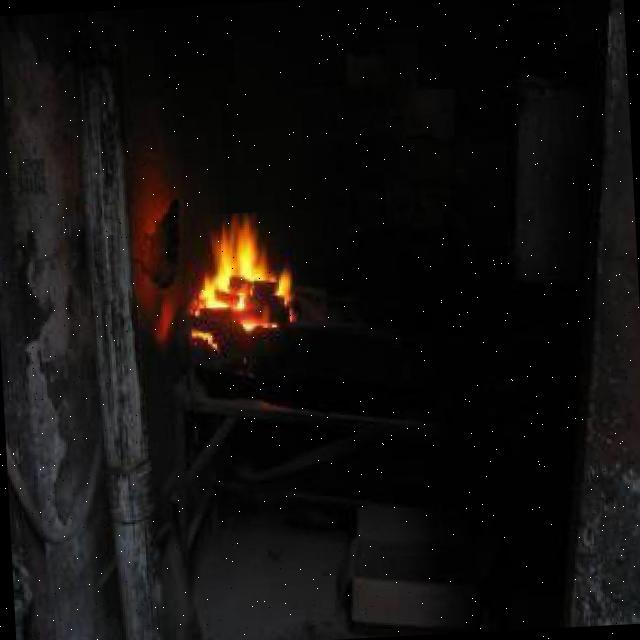fire: (182, 209, 330, 360)
